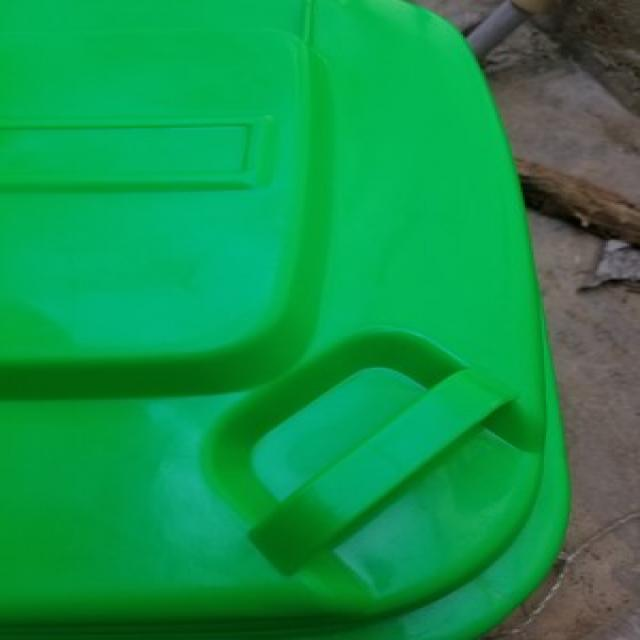ash bin: (0, 0, 569, 638)
